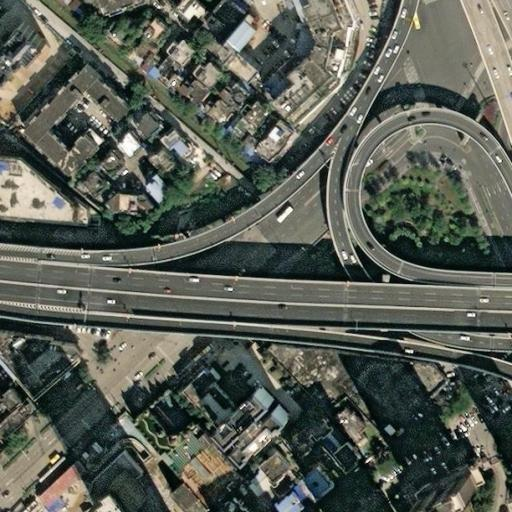building: (210, 383, 295, 461), (17, 66, 95, 145), (273, 58, 344, 136), (137, 417, 211, 477), (302, 0, 352, 85), (241, 440, 301, 498), (83, 449, 136, 512), (420, 468, 479, 512), (90, 466, 140, 512), (244, 124, 292, 167), (190, 382, 230, 424), (176, 364, 215, 401), (164, 476, 203, 512), (3, 21, 40, 57), (329, 408, 363, 445), (0, 403, 33, 441), (222, 19, 256, 54), (34, 132, 68, 166), (83, 78, 117, 111), (260, 82, 292, 114), (56, 146, 87, 178), (223, 53, 255, 83), (235, 105, 269, 133), (136, 19, 169, 47), (293, 465, 322, 494), (147, 149, 176, 178), (142, 178, 172, 206), (163, 42, 193, 69), (190, 64, 220, 90), (323, 442, 350, 470), (181, 81, 209, 108), (130, 115, 158, 142), (204, 101, 231, 128), (71, 133, 98, 160), (146, 58, 174, 84), (197, 16, 223, 42), (251, 75, 277, 101), (220, 76, 249, 98), (216, 496, 258, 511), (81, 176, 106, 201), (181, 2, 209, 24), (109, 132, 133, 157), (215, 113, 238, 139), (278, 2, 297, 33), (284, 33, 304, 62), (209, 1, 233, 25), (165, 74, 188, 97), (170, 141, 193, 164), (98, 156, 121, 179), (268, 59, 291, 82), (119, 196, 144, 217), (155, 126, 175, 152), (227, 127, 251, 148), (233, 119, 257, 140), (237, 147, 261, 168), (158, 56, 181, 77), (215, 90, 237, 111), (106, 101, 128, 122), (269, 492, 292, 512), (134, 46, 155, 67), (259, 3, 274, 24), (76, 125, 93, 142), (218, 44, 233, 63), (227, 10, 244, 26), (188, 109, 204, 124), (222, 0, 240, 13), (290, 0, 306, 14), (199, 102, 212, 117), (152, 78, 165, 92), (131, 63, 144, 76), (95, 167, 108, 180), (139, 68, 151, 81), (135, 139, 147, 151), (231, 0, 246, 9), (82, 193, 93, 205), (143, 202, 151, 214)
